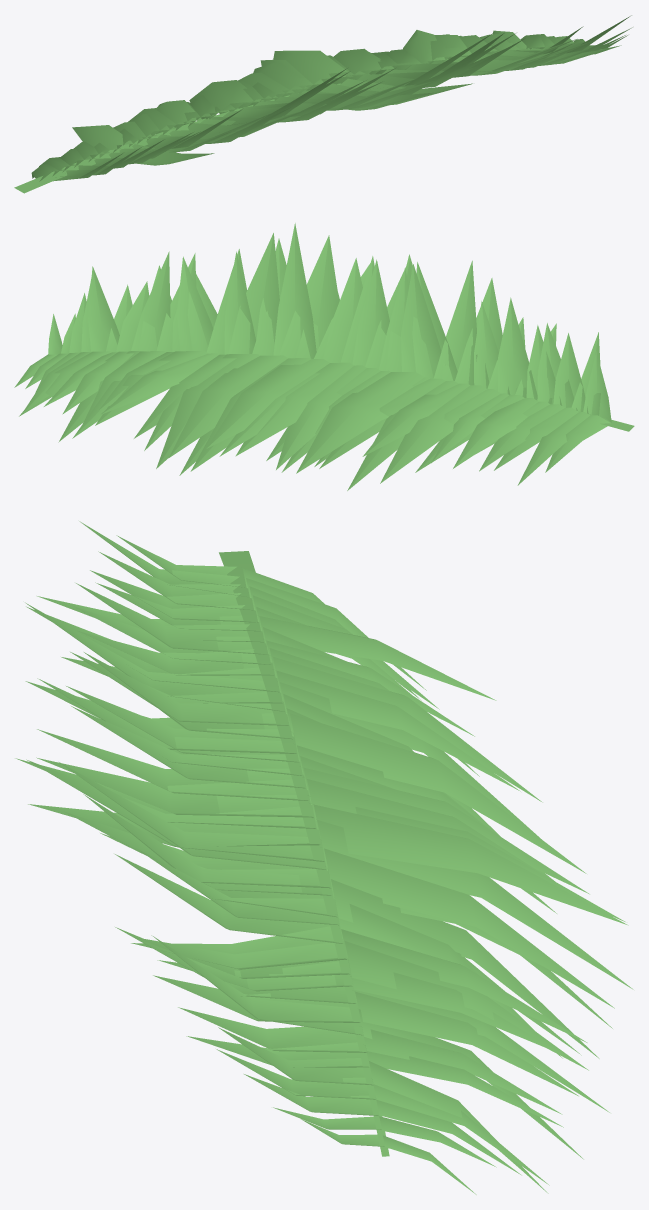
Rendered from SM_Beach_12_FallenFrond.fbx.
3 renders of one model, top to bottom at view 1: azimuth 30°, elevation 25°; view 2: azimuth 150°, elevation 25°; view 3: azimuth 270°, elevation 25°, orthographic. The views are drawn at different scales.
Parts seen in each view (by area): view 1: SM_Beach_12_FallenFrond; view 2: SM_Beach_12_FallenFrond; view 3: SM_Beach_12_FallenFrond.
Part boxes in pixels (x1,y1,x2,y2): SM_Beach_12_FallenFrond: (14,15,632,193); SM_Beach_12_FallenFrond: (14,223,634,490); SM_Beach_12_FallenFrond: (15,521,633,1194).
Size of the model in its own units: 250 by 63.25 by 120.
